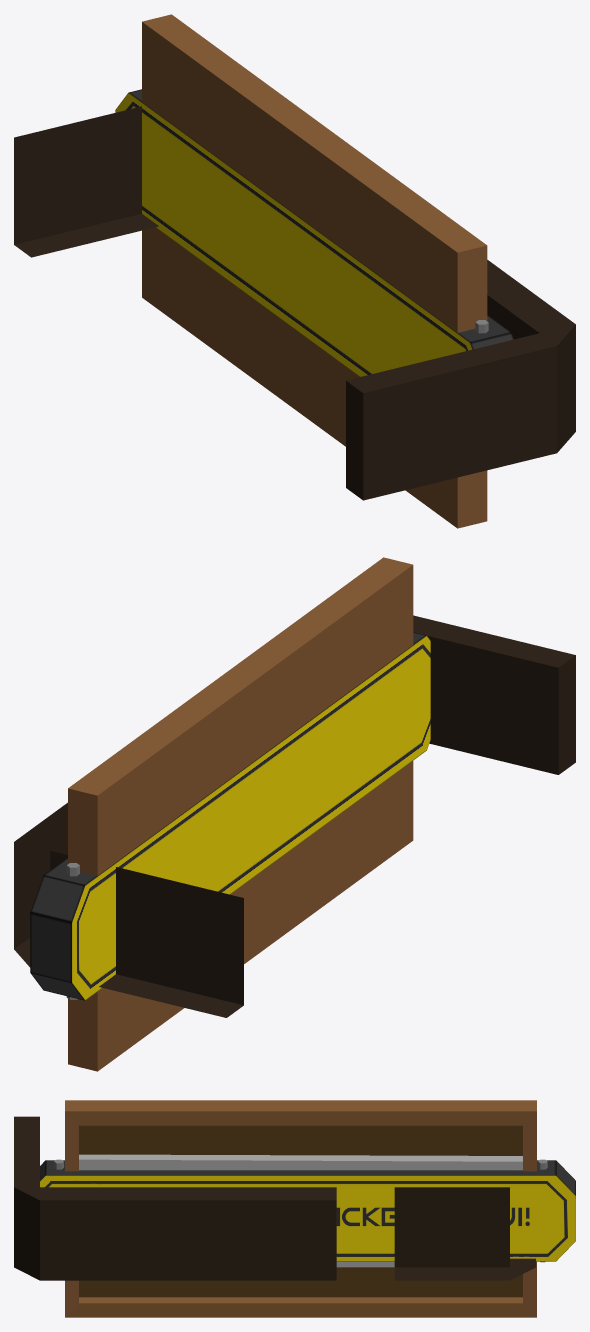
The model's file is BarracaTickets.fbx.
3 views of the same model, one above another, from view 1: azimuth 30°, elevation 25°; view 2: azimuth 150°, elevation 25°; view 3: azimuth 270°, elevation 25° (orthographic). The views are drawn at different scales.
Visible parts, largest first — view 1: Estande, Banncada, Cartaz; view 2: Estande, Cartaz, Banncada; view 3: Estande, Banncada, Cartaz.
Boxes of the visible parts, x1,y1,x2,y2 form: Estande: [142, 14, 487, 528]; Banncada: [14, 106, 575, 500]; Cartaz: [115, 89, 513, 376]; Estande: [68, 557, 413, 1071]; Cartaz: [30, 632, 430, 1000]; Banncada: [14, 615, 575, 1017]; Estande: [65, 1100, 536, 1317]; Banncada: [14, 1116, 535, 1280]; Cartaz: [40, 1160, 575, 1261].
Bounding box in the file's own units: 251 × 288 × 711.
11 materials, 1 textured.
